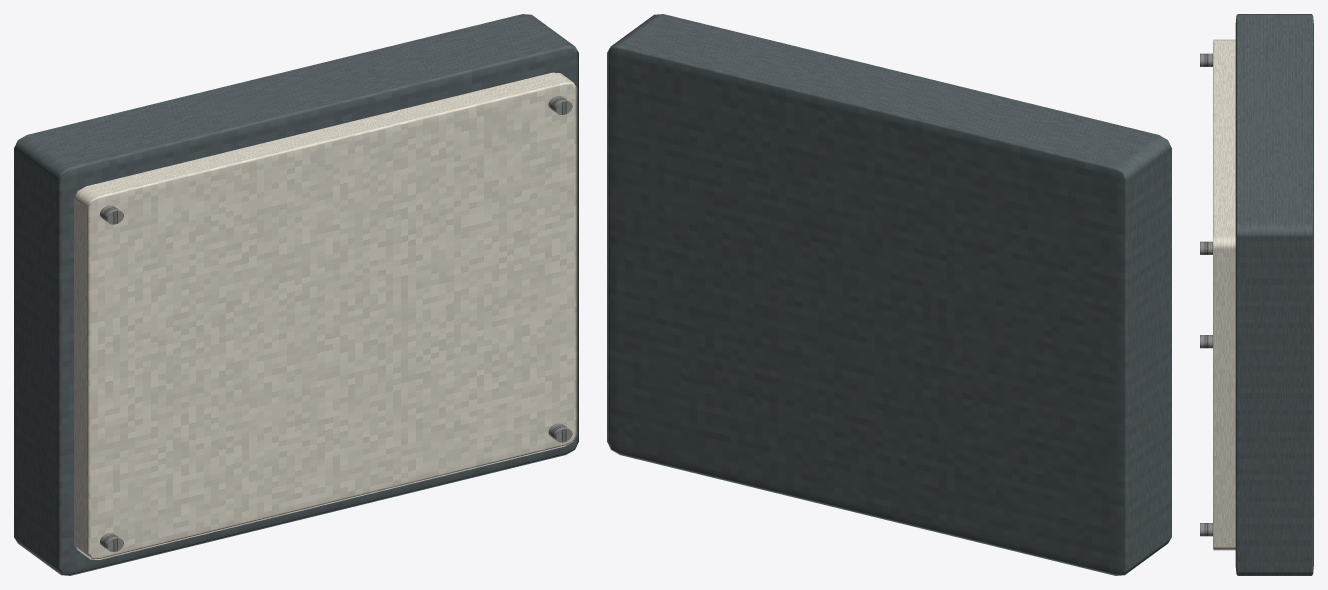
File: thermostat.glb
3 renders of one model, left to right at view 1: azimuth 30°, elevation 25°; view 2: azimuth 150°, elevation 25°; view 3: azimuth 270°, elevation 25°, orthographic. The views are drawn at different scales.
Visible parts, largest first — view 1: face, back; view 2: back; view 3: back, face, pin (×4).
Boxes of the visible parts, <box> form: face: <box>74,72,577,559</box>; back: <box>14,14,578,575</box>; back: <box>607,14,1171,575</box>; back: <box>1235,14,1313,575</box>; face: <box>1213,39,1235,550</box>; pin (×4): <box>1200,53,1212,536</box>.
Size of the model in its own units: 0.12 by 0.09 by 0.0264.
Materials: 3 (3 with a texture image).
